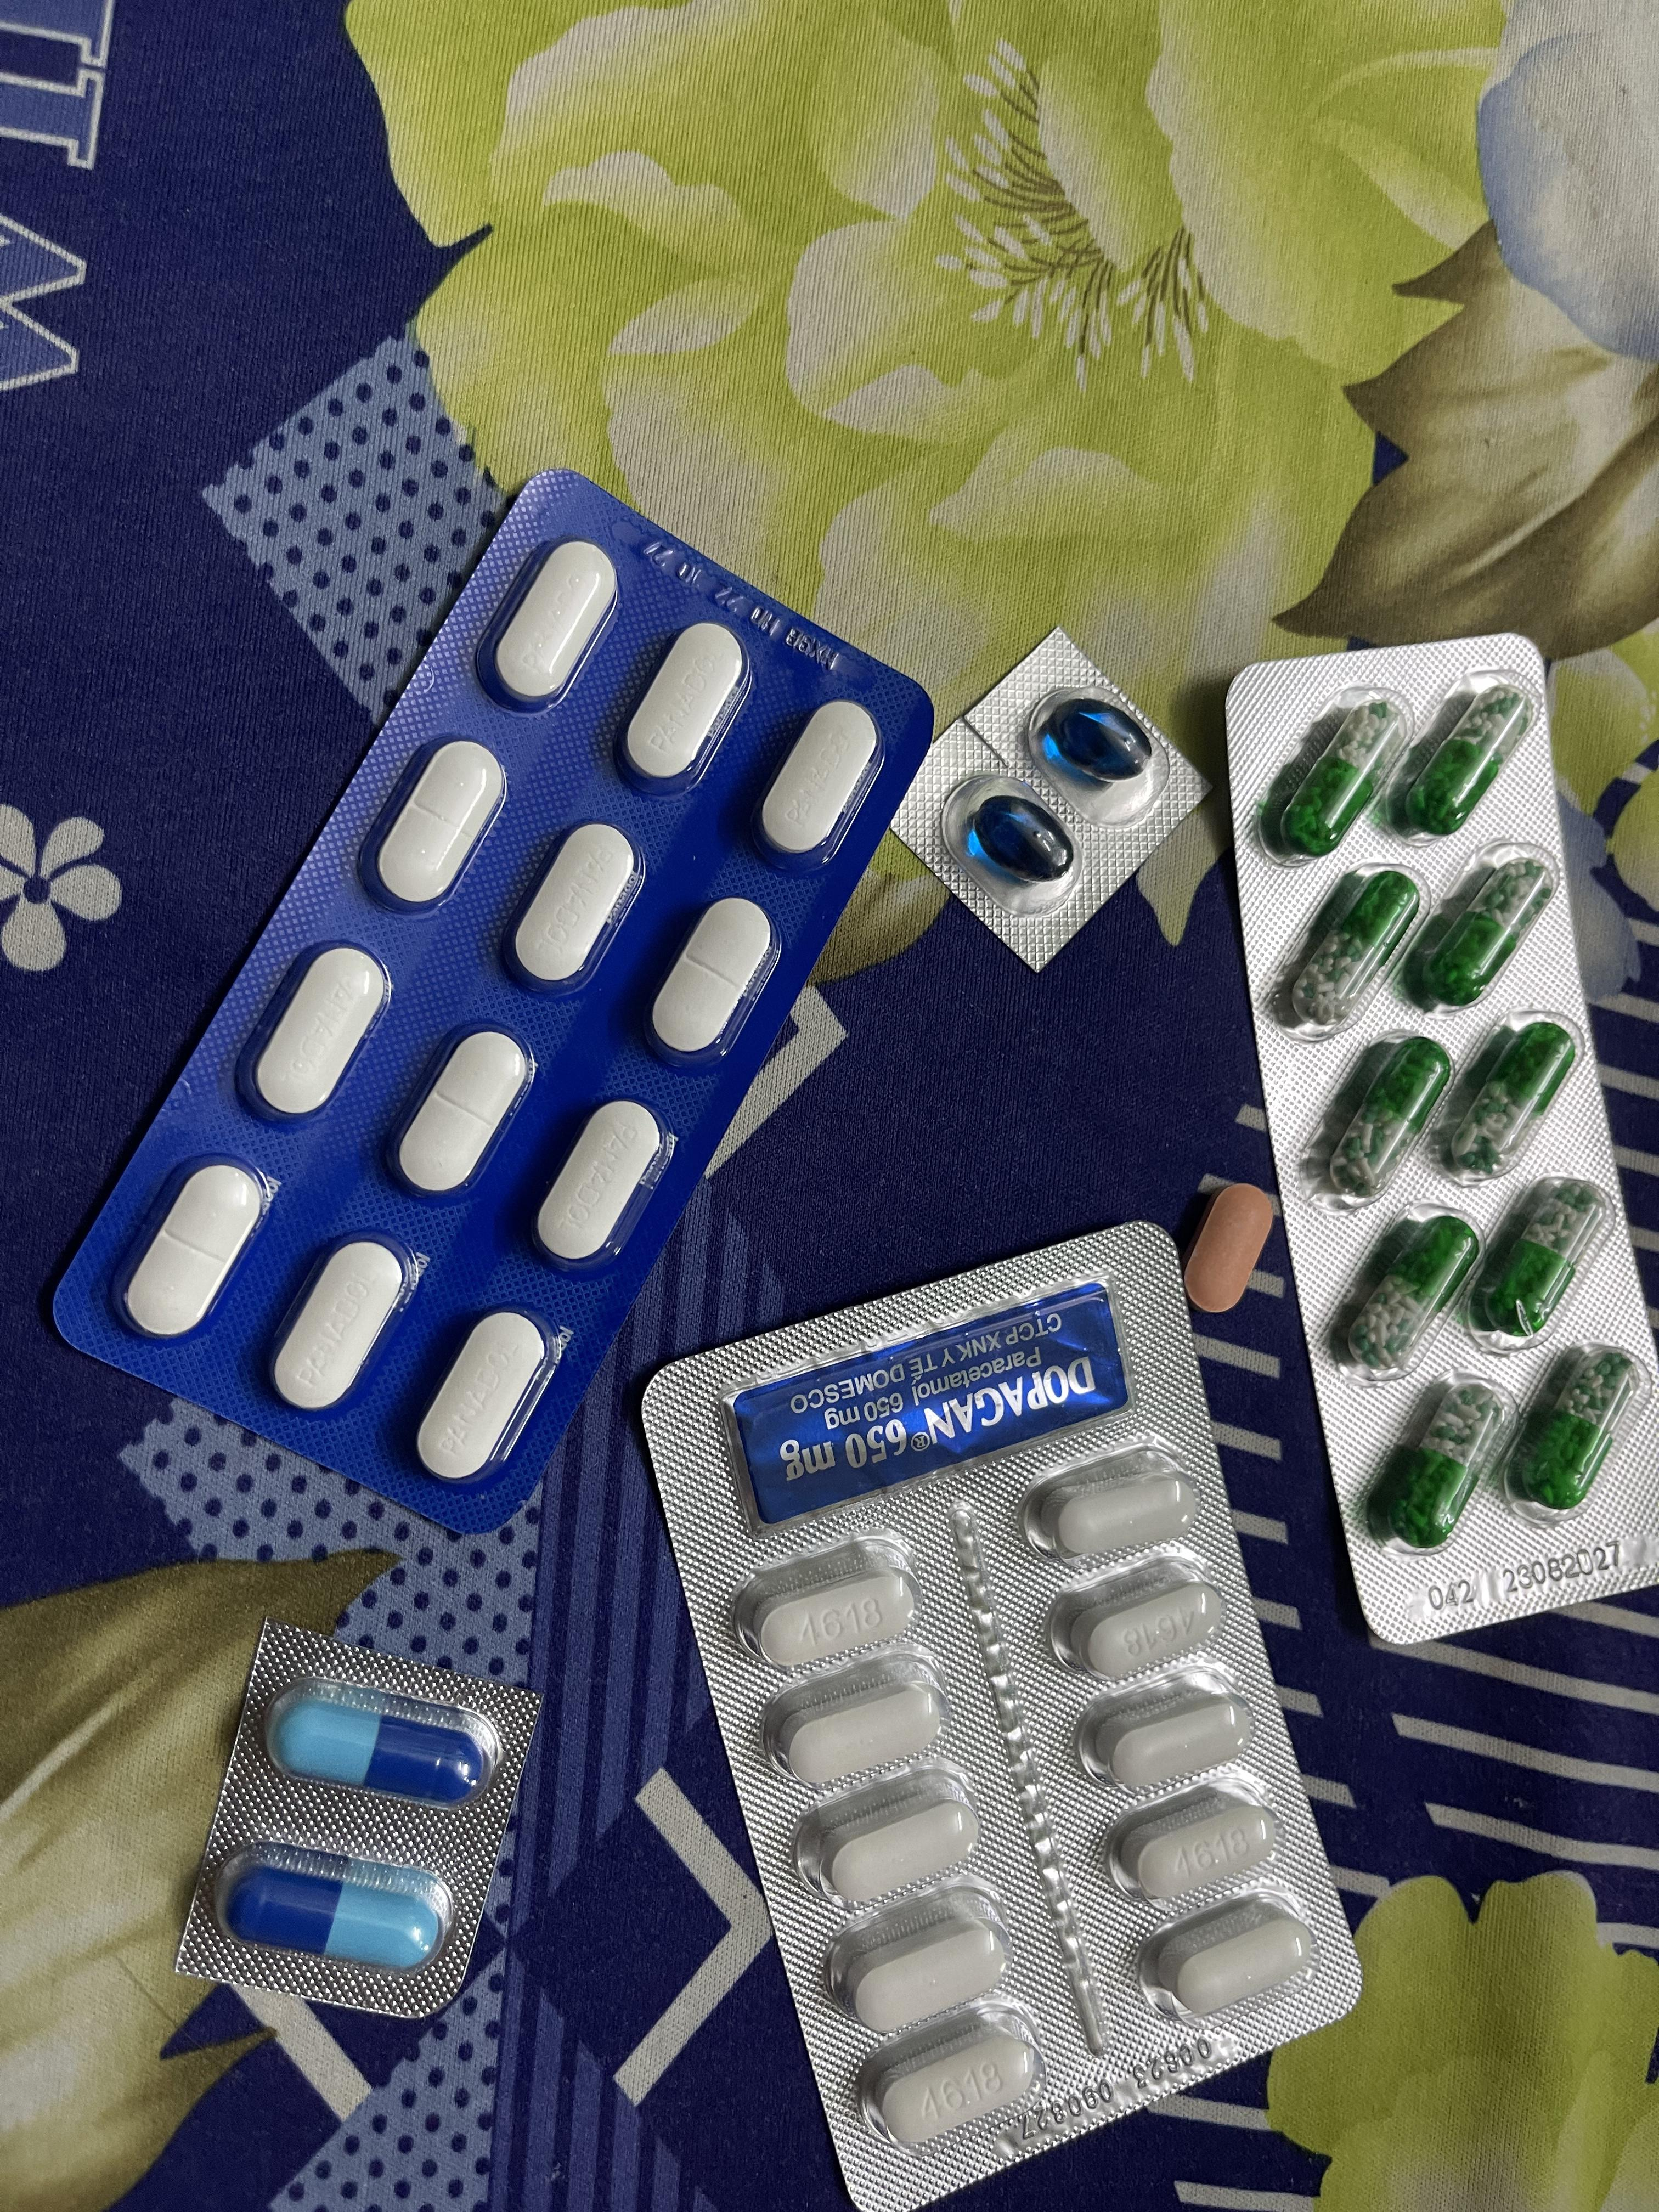Lincomyxin_500mg: (971, 796, 1075, 888), (1042, 697, 1152, 782)
Loratadine_10mg: (1185, 1184, 1272, 1310)
Paracetamol_350mg: (110, 1158, 272, 1343), (239, 939, 392, 1125), (267, 1233, 420, 1413), (389, 1024, 538, 1202), (361, 735, 509, 914), (504, 820, 647, 1001), (481, 535, 624, 714), (413, 1312, 559, 1484), (530, 1094, 674, 1268), (643, 897, 781, 1073), (620, 625, 755, 796), (751, 697, 880, 873)
Paracetamol_500mg: (824, 1878, 1014, 2027), (735, 1534, 913, 1665), (1075, 1662, 1251, 1789), (1051, 1554, 1225, 1676), (1105, 1778, 1276, 1902), (875, 2027, 1035, 2146), (781, 1681, 945, 1791), (821, 1794, 974, 1907), (1164, 1918, 1307, 2020), (1051, 1472, 1188, 1557)
Paracetamol_650mg: (1260, 688, 1410, 862), (1464, 1176, 1614, 1348), (1500, 1343, 1649, 1515), (1364, 1374, 1507, 1548), (1328, 1207, 1473, 1378), (1309, 1035, 1450, 1205), (1277, 866, 1420, 1033), (1408, 848, 1556, 1008), (1434, 1017, 1577, 1183), (1405, 690, 1528, 838)
pill: (214, 1843, 465, 1979), (274, 1698, 484, 1804)
